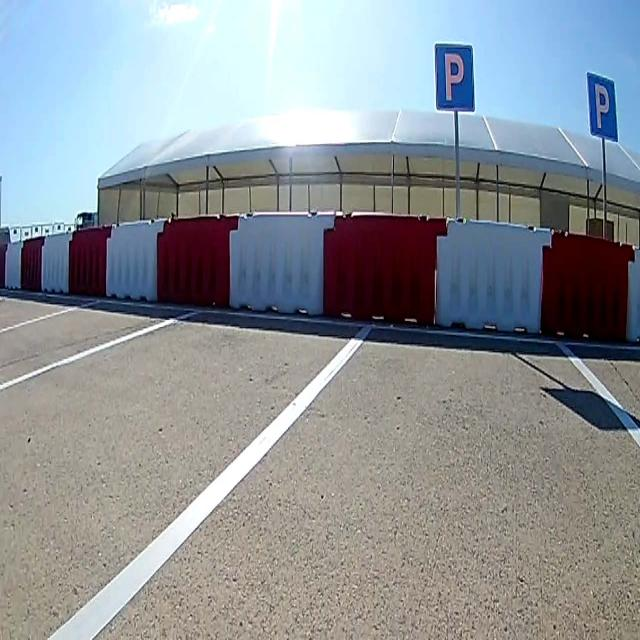park: (434, 44, 475, 111), (588, 72, 618, 140)
